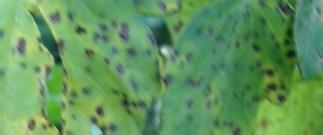Tomato Septoria leaf spot: (0, 0, 173, 135), (160, 0, 323, 135)
